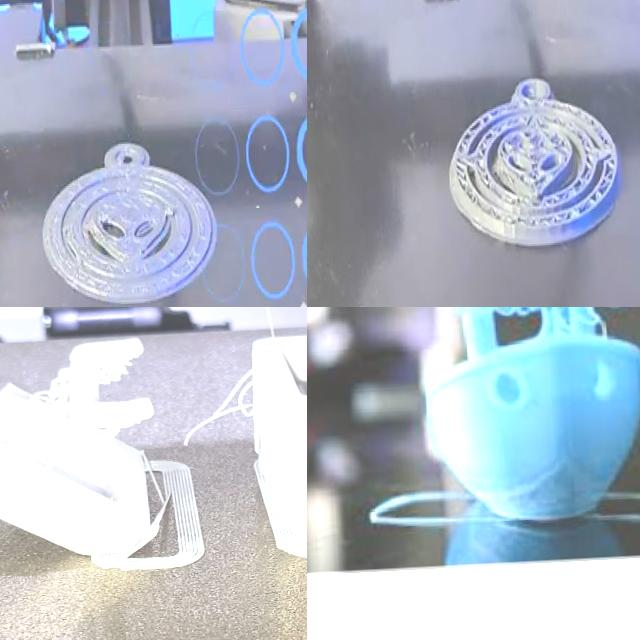spaghetti: (0, 352, 145, 466), (174, 362, 266, 454), (446, 307, 640, 326)
